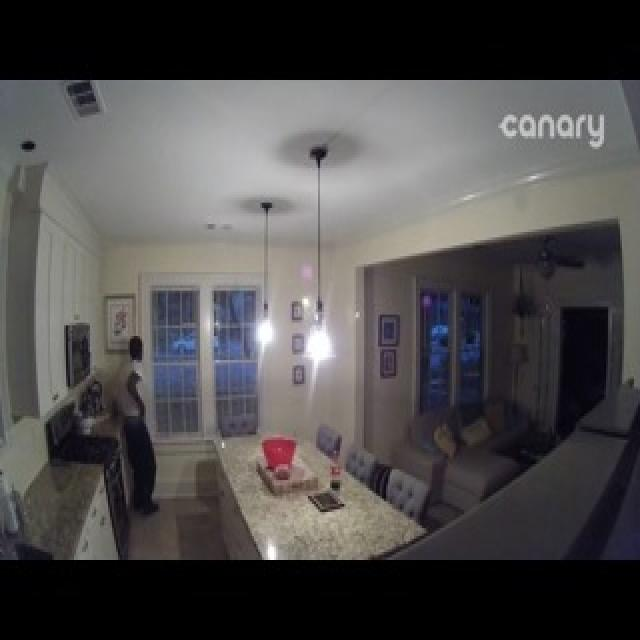thief: (100, 331, 184, 514)
